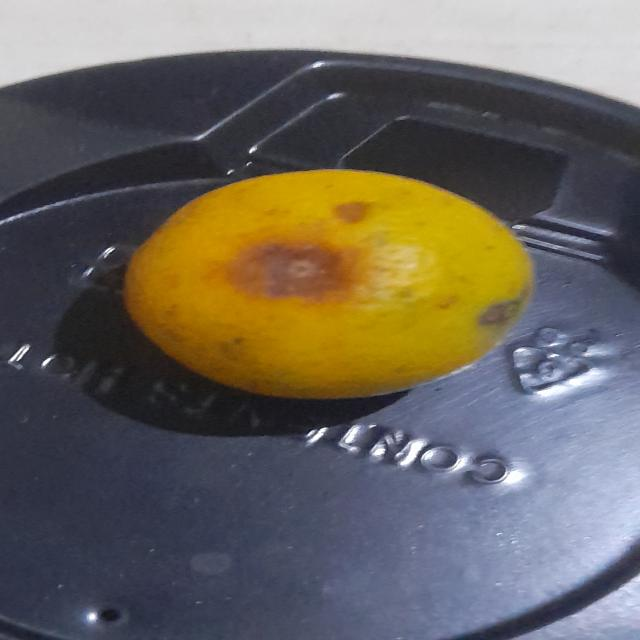black spot: (121, 168, 541, 402)
